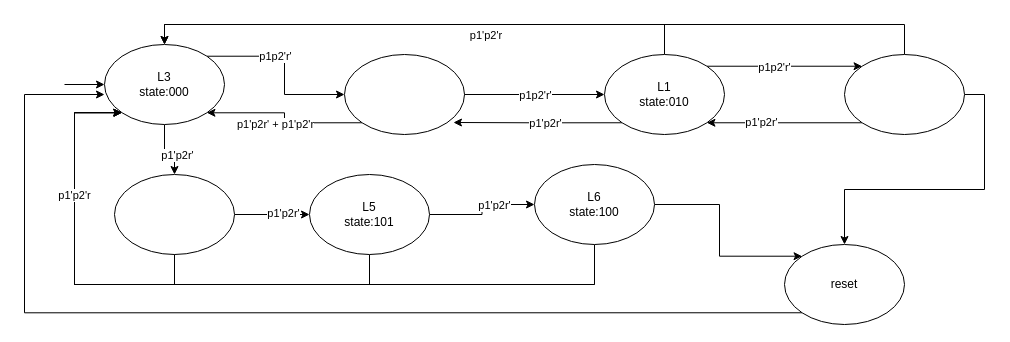
Image size: 1010x342. Some labels were removed from this diagram. Here are the shapes that lost their labels. From the top down, the centre of each, then its label:
At [404,94]: "L2 state:001".
At [904,94]: "L0 state:011".
At [174,214]: "L4 state:110".
